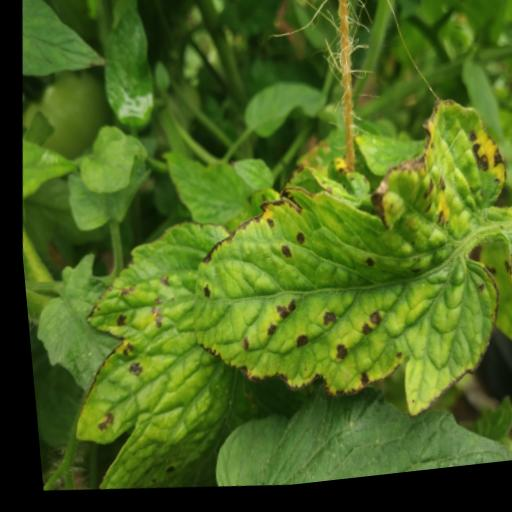Early Blight: (161, 75, 512, 456)
